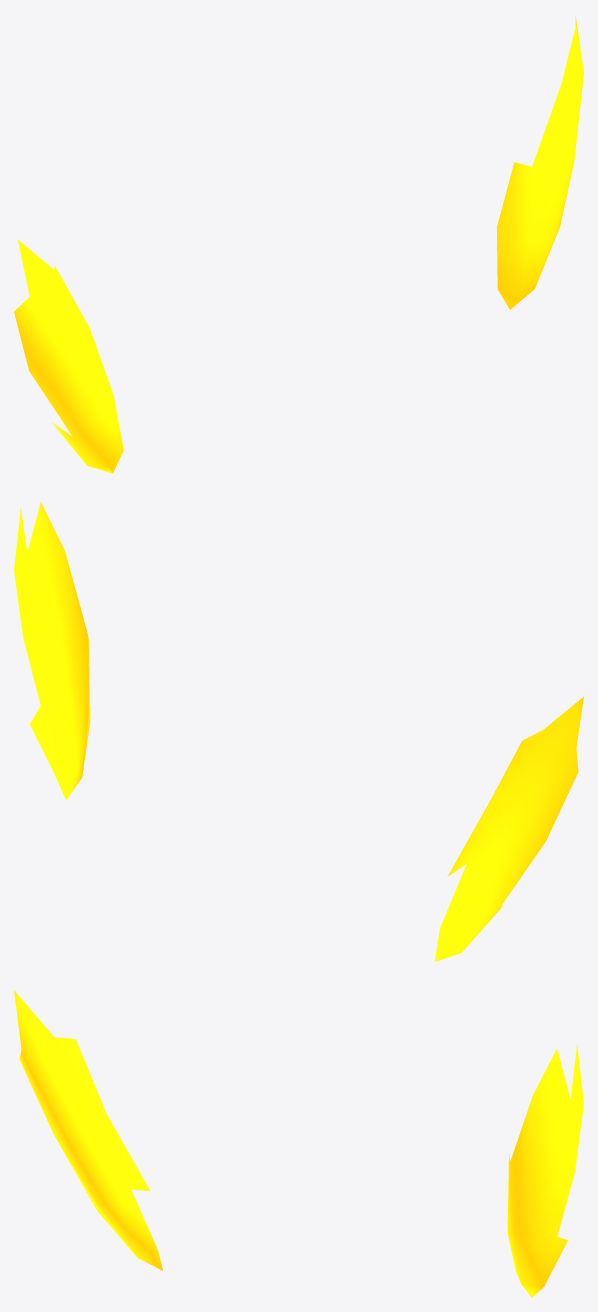
Rendered from Ent_Eyes.fbx.
The picture shows the model from 3 angles, top to bottom: view 1: azimuth 30°, elevation 25°; view 2: azimuth 150°, elevation 25°; view 3: azimuth 330°, elevation 25°; orthographic projection. The views are drawn at different scales.
Parts seen in each view (by area): view 1: NurbsPath.048; view 2: NurbsPath.048; view 3: NurbsPath.048.
Part boxes in pixels (x1,y1,x2,y2): NurbsPath.048: (14,16,583,473); NurbsPath.048: (14,502,583,961); NurbsPath.048: (14,990,583,1297).
Size of the model in its own units: 13.03 by 7.73 by 1.3.
